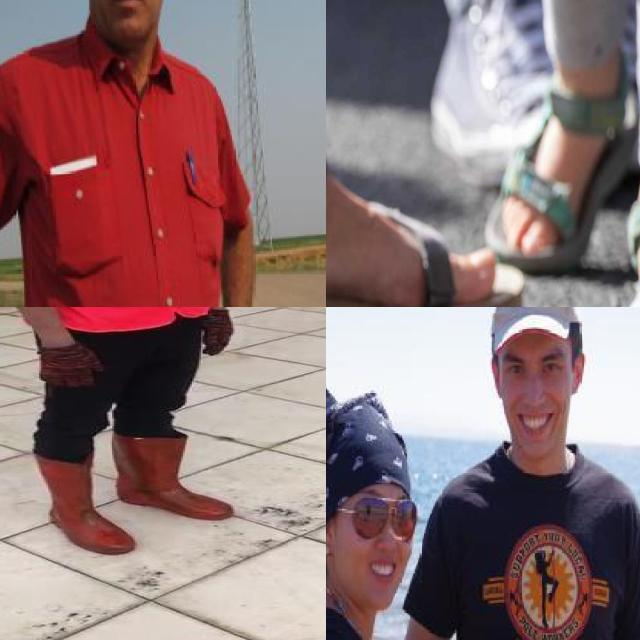boots: (112, 432, 233, 521), (35, 454, 134, 555)
face_nomask: (340, 490, 414, 583), (500, 343, 570, 435), (81, 0, 173, 23)
glasses: (327, 496, 413, 550)
hand_glove: (41, 343, 101, 388), (204, 308, 233, 357)
head_nohelmet: (442, 307, 640, 640), (326, 385, 412, 513), (487, 307, 586, 362)
person: (0, 0, 262, 307), (0, 307, 249, 573), (326, 379, 418, 640)
